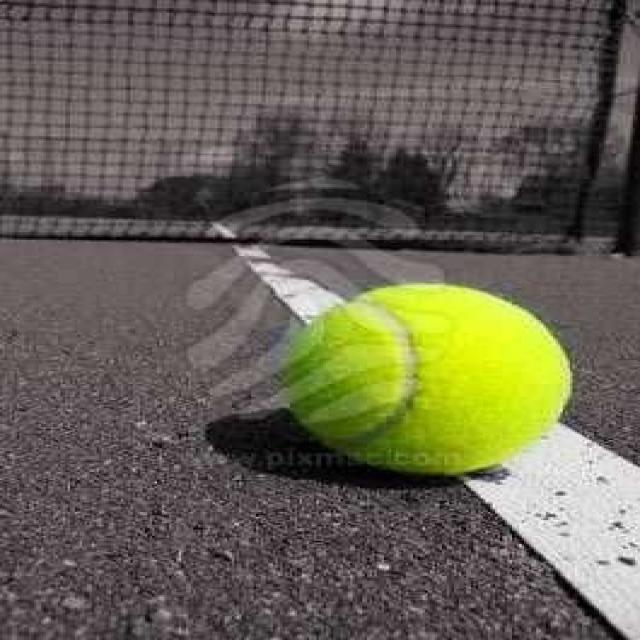Tennis_Ball: (283, 284, 562, 482)
